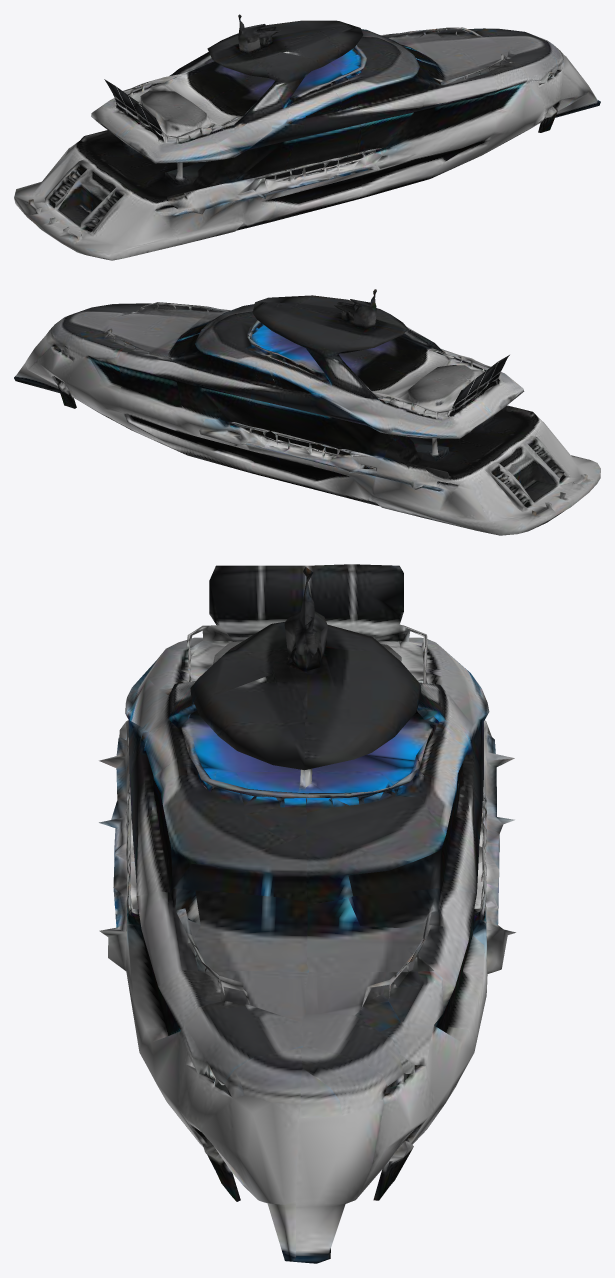
Rendered from yacht-two.glb.
3 views of the same model, one above another, from view 1: azimuth 30°, elevation 25°; view 2: azimuth 150°, elevation 25°; view 3: azimuth 270°, elevation 25° (orthographic). The views are drawn at different scales.
Visible parts, largest first — view 1: tripo_node_6b43f708-1c90-4d08-9b97-2a2c45195c32; view 2: tripo_node_6b43f708-1c90-4d08-9b97-2a2c45195c32; view 3: tripo_node_6b43f708-1c90-4d08-9b97-2a2c45195c32.
Part boxes in pixels (box(x1,y1,x2,y2)): tripo_node_6b43f708-1c90-4d08-9b97-2a2c45195c32: box(14, 14, 600, 260); tripo_node_6b43f708-1c90-4d08-9b97-2a2c45195c32: box(14, 289, 600, 535); tripo_node_6b43f708-1c90-4d08-9b97-2a2c45195c32: box(99, 564, 515, 1263).
Size of the model in its own units: 0.9986 by 0.2999 by 0.326.
1 material, 1 textured.
